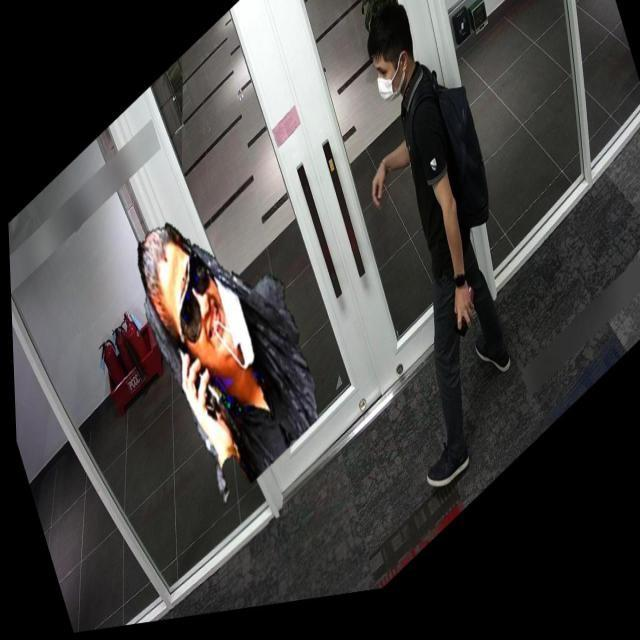mask: (373, 67, 408, 104)
